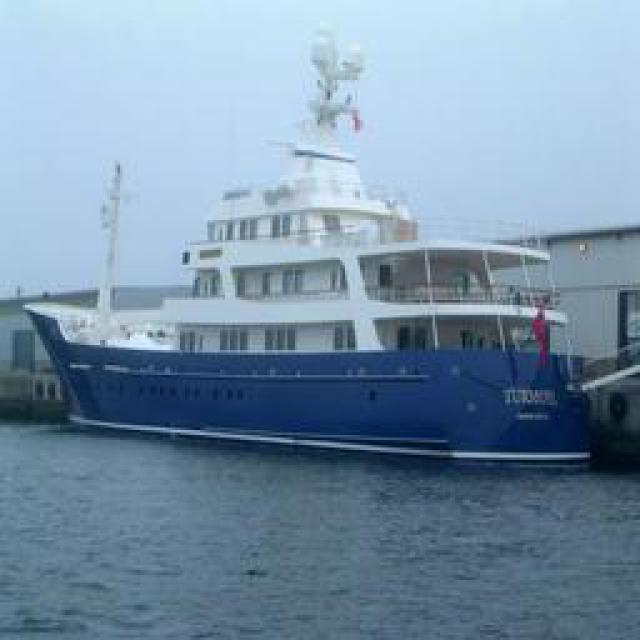Ship: (30, 41, 620, 466)
